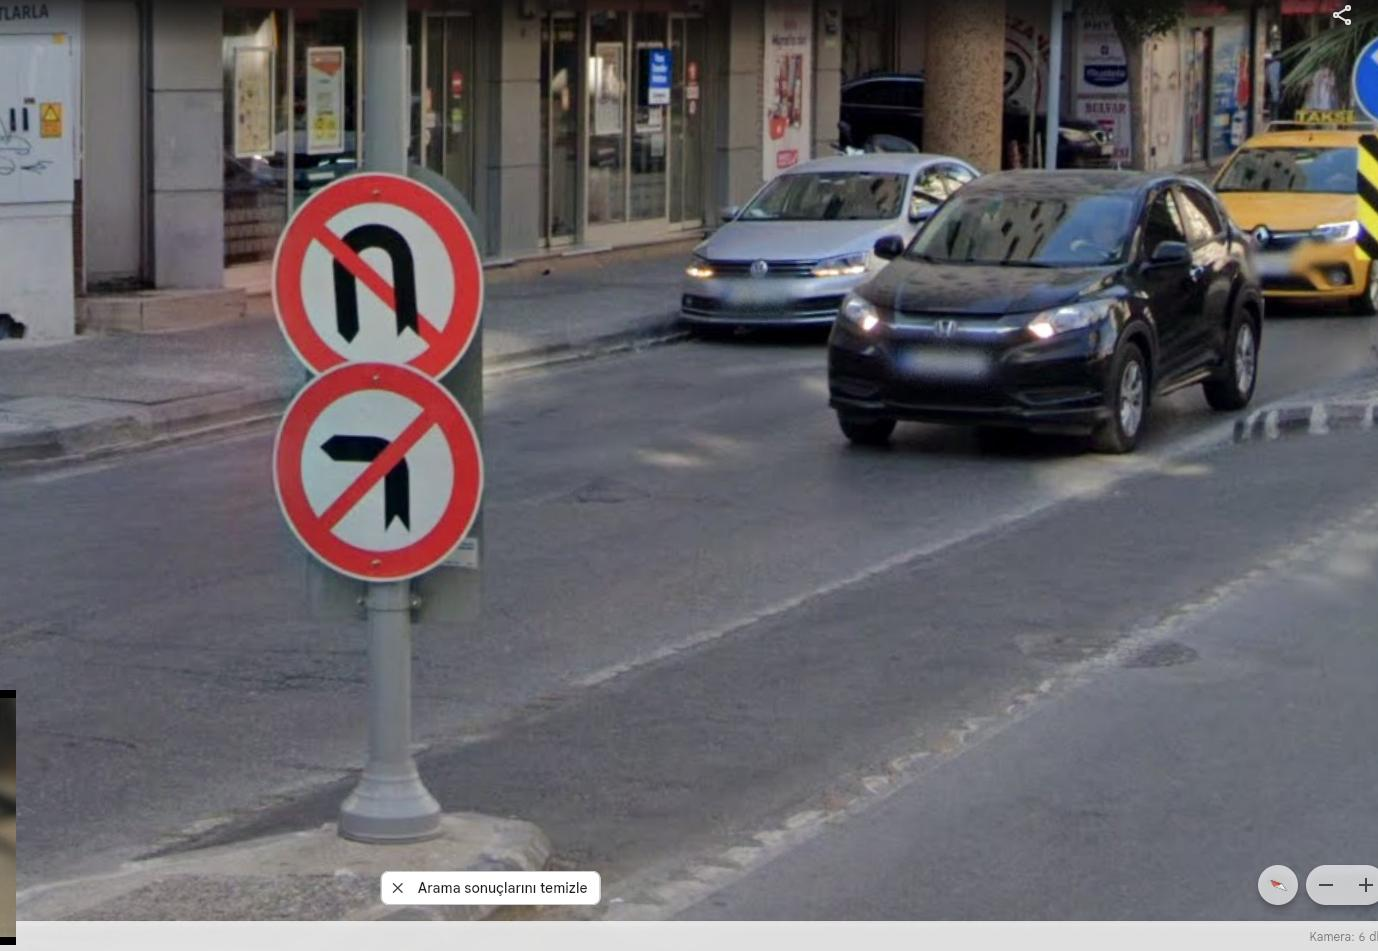leftturnsareforbidden: (269, 367, 488, 577)
